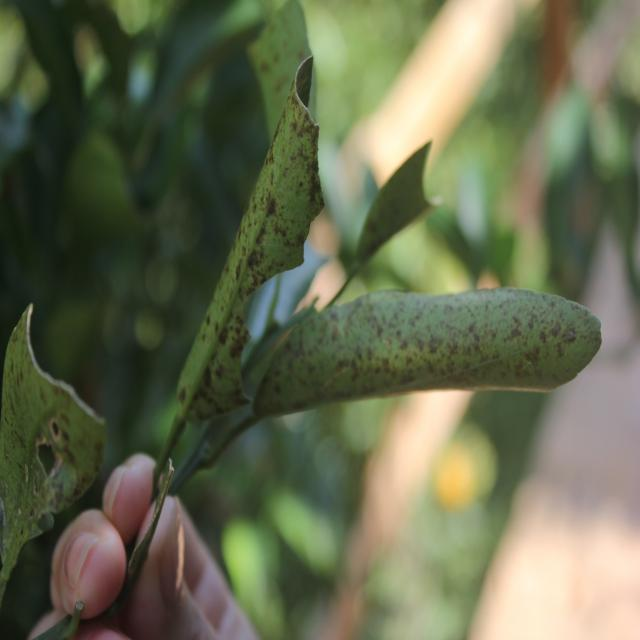melanose: (172, 52, 327, 429), (272, 272, 604, 428), (0, 276, 125, 552)
